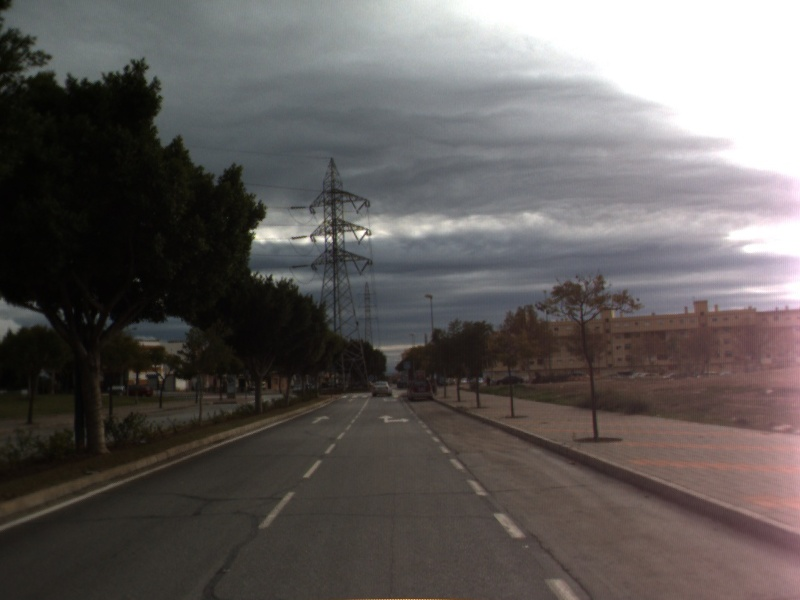STRAIGHT: (309, 413, 332, 426)
STRAIGHT_RIGHT: (376, 413, 412, 425)
